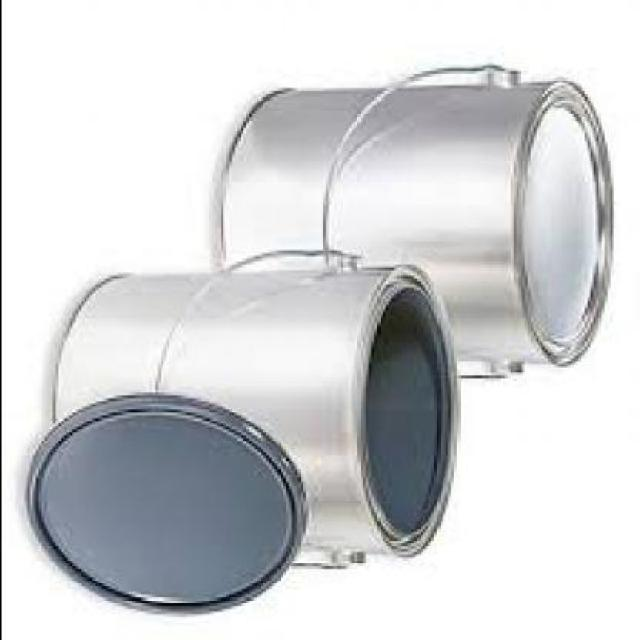METAL: (54, 251, 463, 566), (222, 63, 615, 379), (23, 390, 309, 612)
